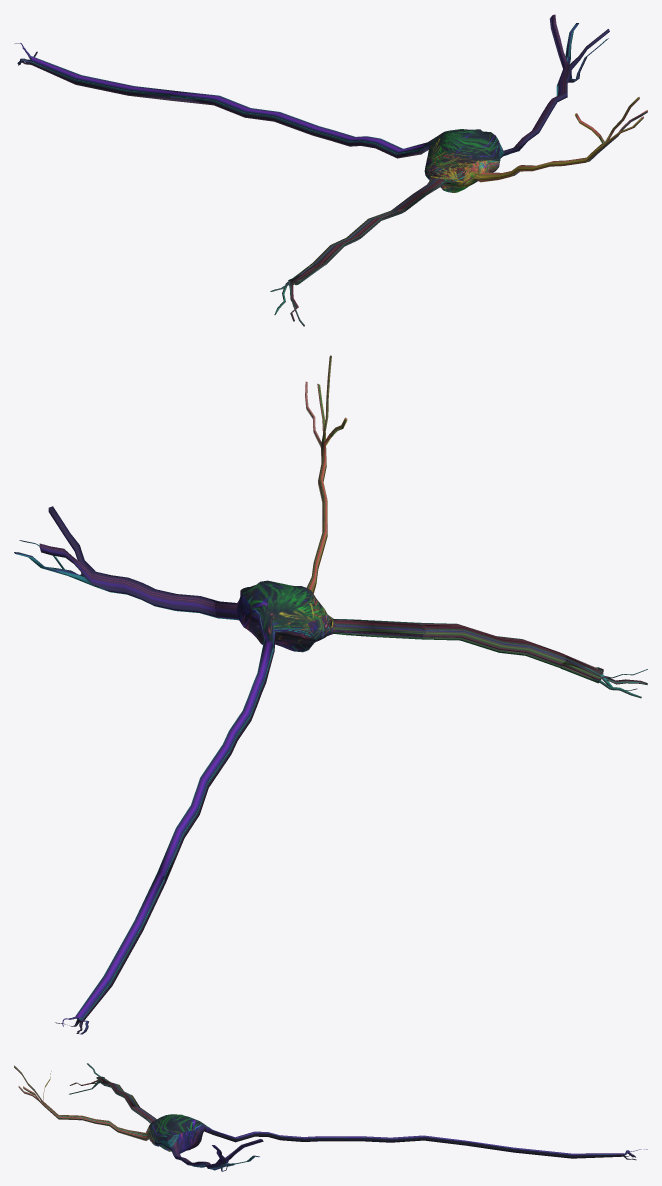
The model's file is lastneuron14.fbx.
The picture shows the model from 3 angles, top to bottom: view 1: azimuth 30°, elevation 25°; view 2: azimuth 150°, elevation 25°; view 3: azimuth 270°, elevation 25°; orthographic projection. The views are drawn at different scales.
Parts seen in each view (by area): view 1: DONE3 ex; view 2: DONE3 ex; view 3: DONE3 ex.
Part boxes in pixels (left/top/right/bottom): DONE3 ex: left=15, top=14, right=647, bottom=326; DONE3 ex: left=14, top=355, right=647, bottom=1034; DONE3 ex: left=14, top=1063, right=647, bottom=1171.
Bounding box in the file's own units: 50473 × 24659 × 85220.
